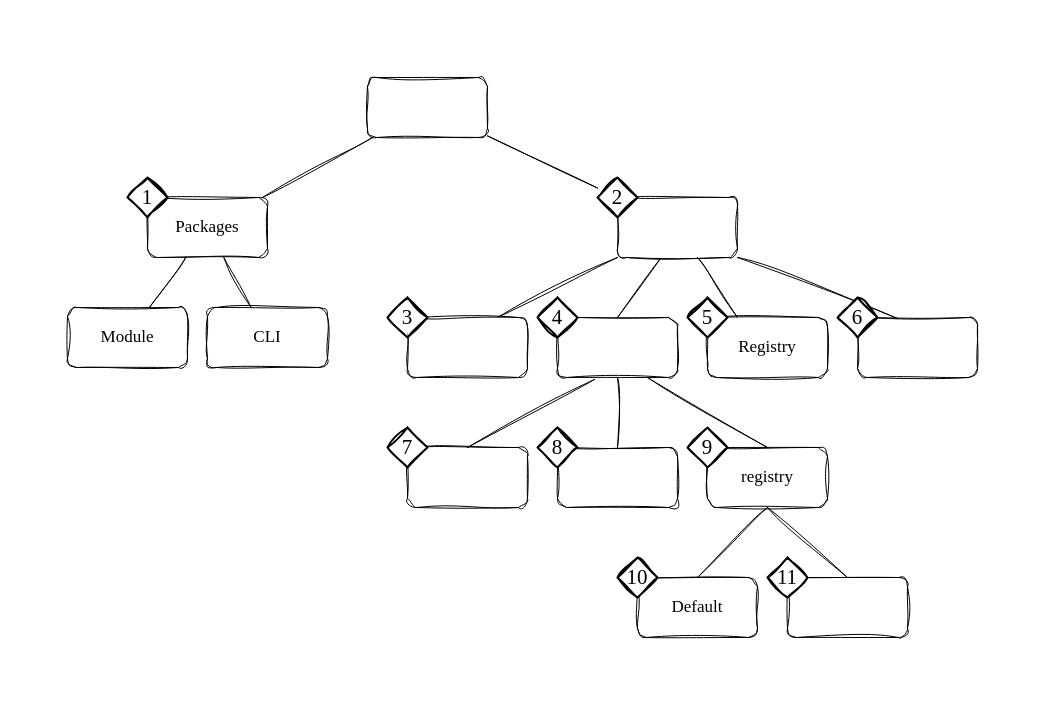
This 1044x714 diagram has some shape labels left out. Each missing label, with the box of its shape:
.vitepress: (406, 316, 528, 378)
Apps/www: (616, 196, 738, 258)
Content: (406, 446, 528, 508)
Examples: (556, 446, 678, 508)
New York: (786, 576, 908, 638)
Scripts: (856, 316, 978, 378)
Shadcn/Vue: (366, 76, 488, 138)
Src: (556, 316, 678, 378)
